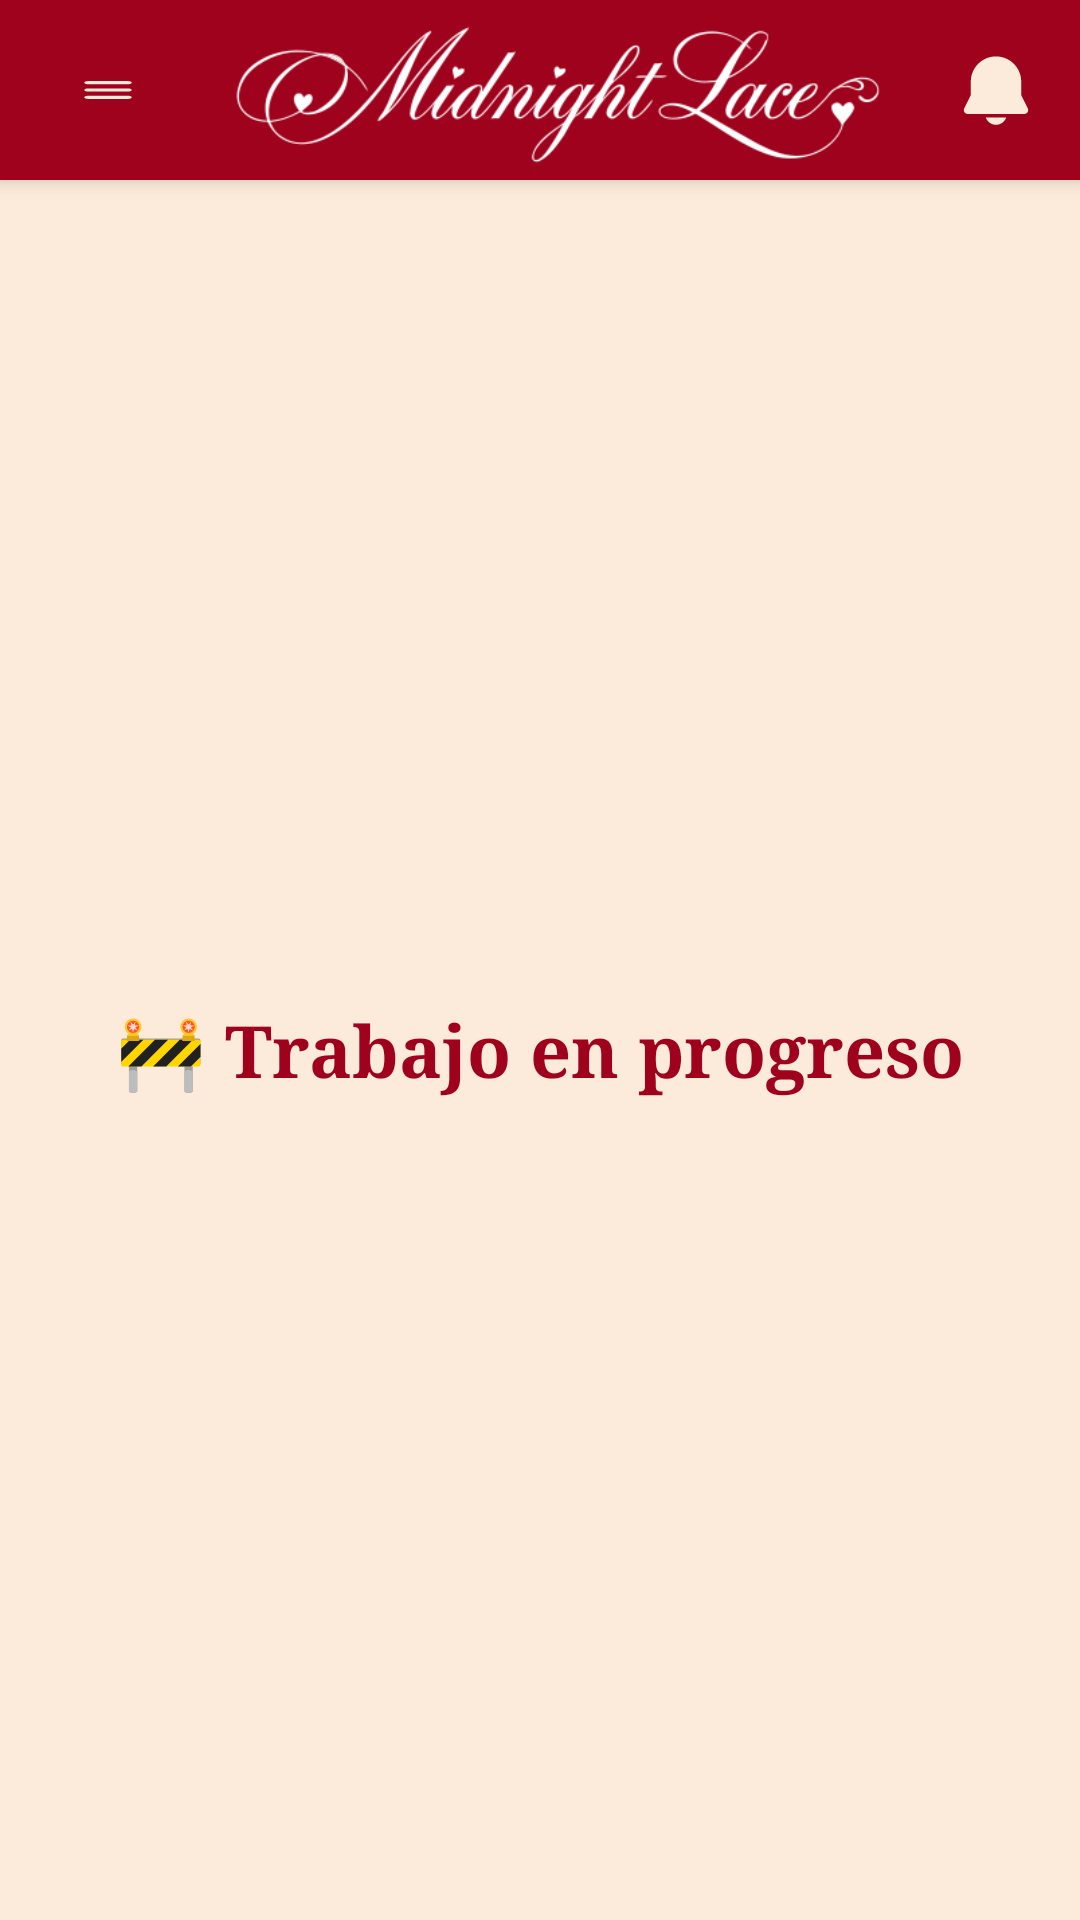

Point at icon controls on the screen. Image size 1080x1920, points as (x,y).
bell: (996,90)
menu: (108,90)
